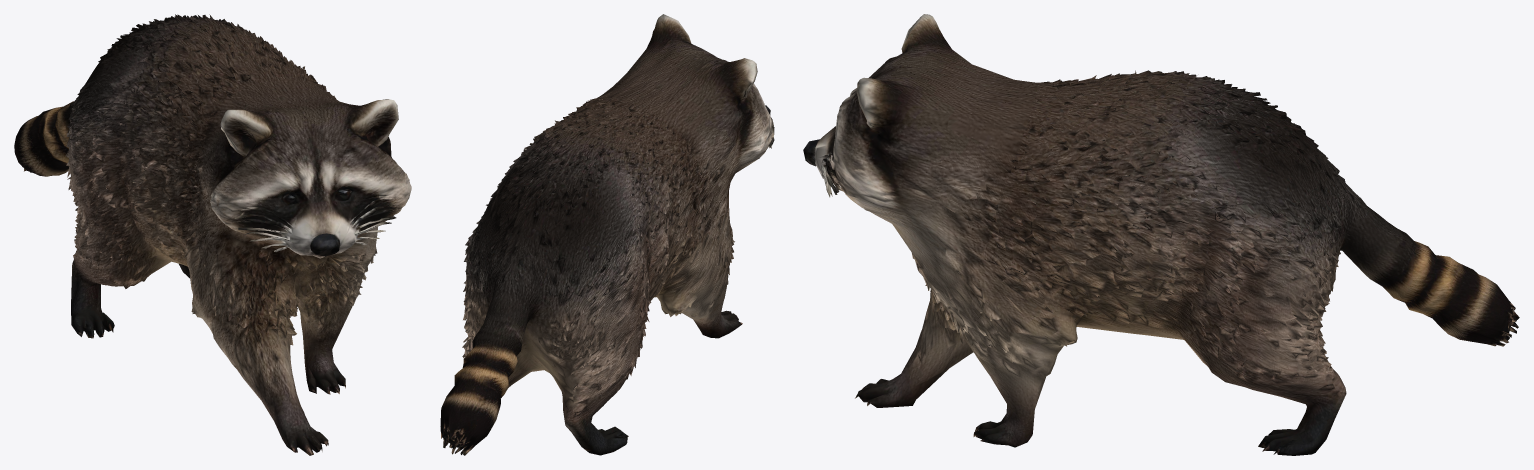
The model's file is raccoon.glb.
3 views of the same model, side by side, from view 1: azimuth 30°, elevation 25°; view 2: azimuth 150°, elevation 25°; view 3: azimuth 270°, elevation 25° (orthographic). The views are drawn at different scales.
Visible parts, largest first — view 1: raccoon; view 2: raccoon; view 3: raccoon.
Boxes of the visible parts, x1,y1,x2,y2 form: raccoon: (14,14,411,455); raccoon: (440,14,774,455); raccoon: (803,14,1519,455).
Size of the model in its own units: 0.3244 by 0.5507 by 0.9938.
Materials: 1 (1 with a texture image).
